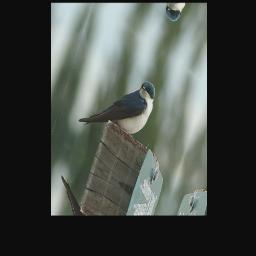Swallow: (77, 47, 159, 163)
